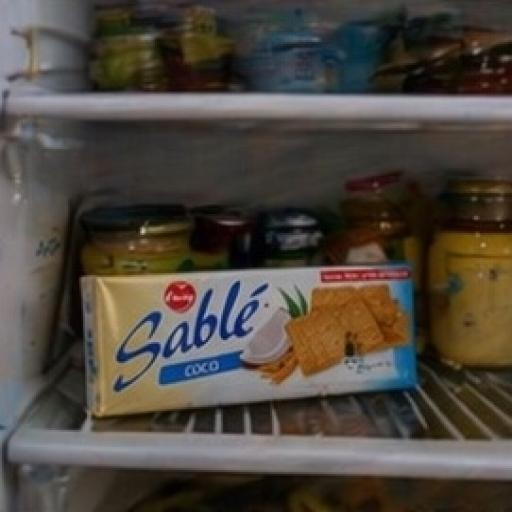sable: (54, 224, 462, 472)
